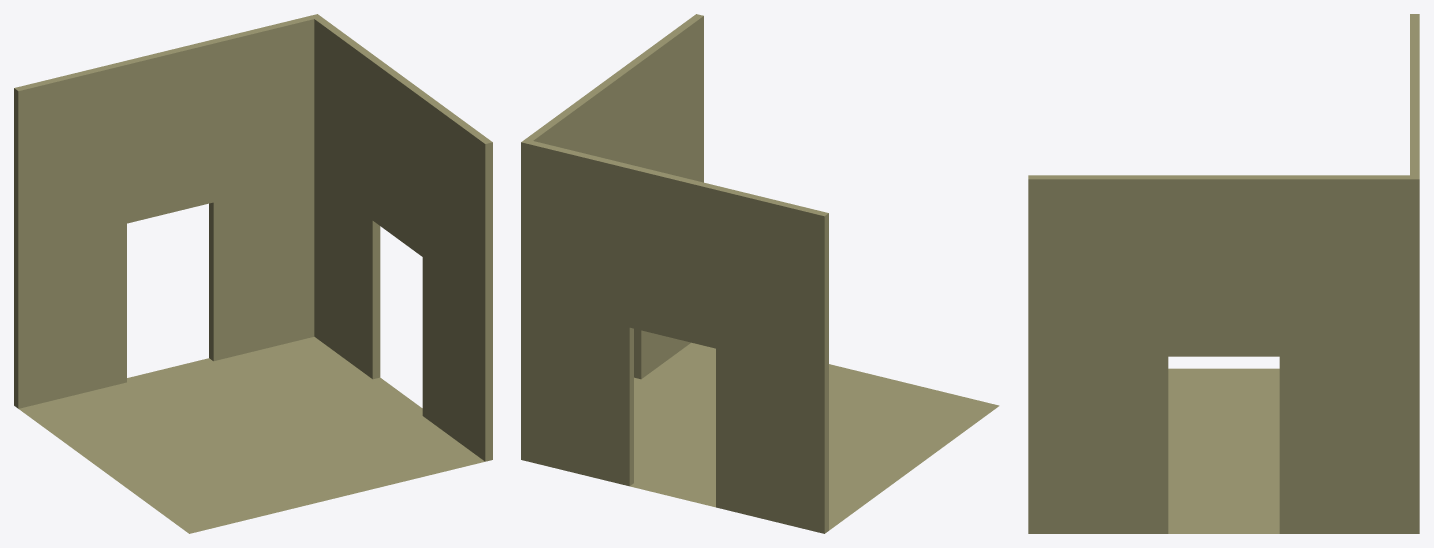
Rendered from HpolyFacCornerDDoor01.glb.
3 views of the same model, side by side, from view 1: azimuth 30°, elevation 25°; view 2: azimuth 150°, elevation 25°; view 3: azimuth 270°, elevation 25° (orthographic). The views are drawn at different scales.
Visible parts, largest first — view 1: HpolyFacCornerDDoor01-col; view 2: HpolyFacCornerDDoor01-col; view 3: HpolyFacCornerDDoor01-col.
Boxes of the visible parts, x1,y1,x2,y2 form: HpolyFacCornerDDoor01-col: (14,14,492,533); HpolyFacCornerDDoor01-col: (521,14,999,533); HpolyFacCornerDDoor01-col: (1028,14,1419,533).
Size of the model in its own units: 4 by 4 by 4.
